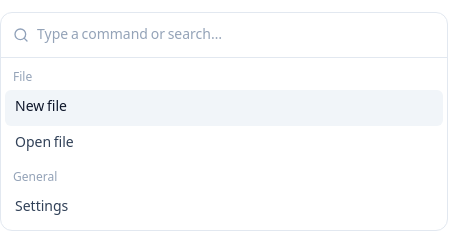
Test: Command › shows empty text when nothing matches
Step 1. Type "zzzzz" into the dropdown → (236, 35), box [37,13,435,57]
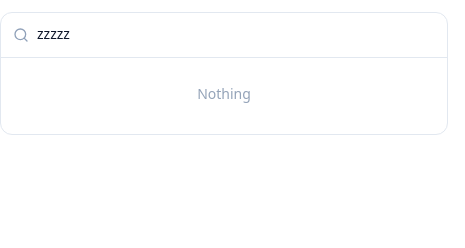
Result: the list item "Nothing" is shown at [197,85,251,106]
